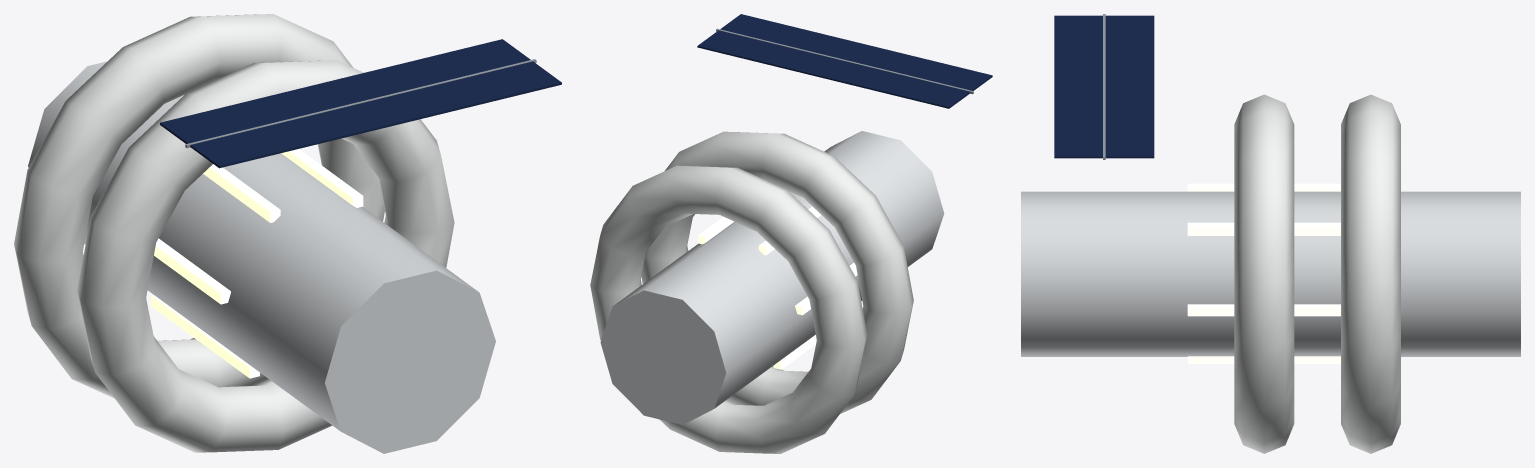
Rendered from space_orbital_habitat_t2.glb.
3 renders of one model, left to right at view 1: azimuth 30°, elevation 25°; view 2: azimuth 150°, elevation 25°; view 3: azimuth 270°, elevation 25°, orthographic. The views are drawn at different scales.
Visible parts, largest first — view 1: body, solar_0; view 2: body, solar_0; view 3: body, solar_0.
Boxes of the visible parts, x1,y1,x2,y2 form: body: (14,14,495,453); solar_0: (160,39,561,168); body: (590,131,944,453); solar_0: (697,14,992,108); body: (1021,94,1520,453); solar_0: (1054,14,1154,159).
Size of what is drawn, in the model's own units: 10.8 by 11.64 by 15.
